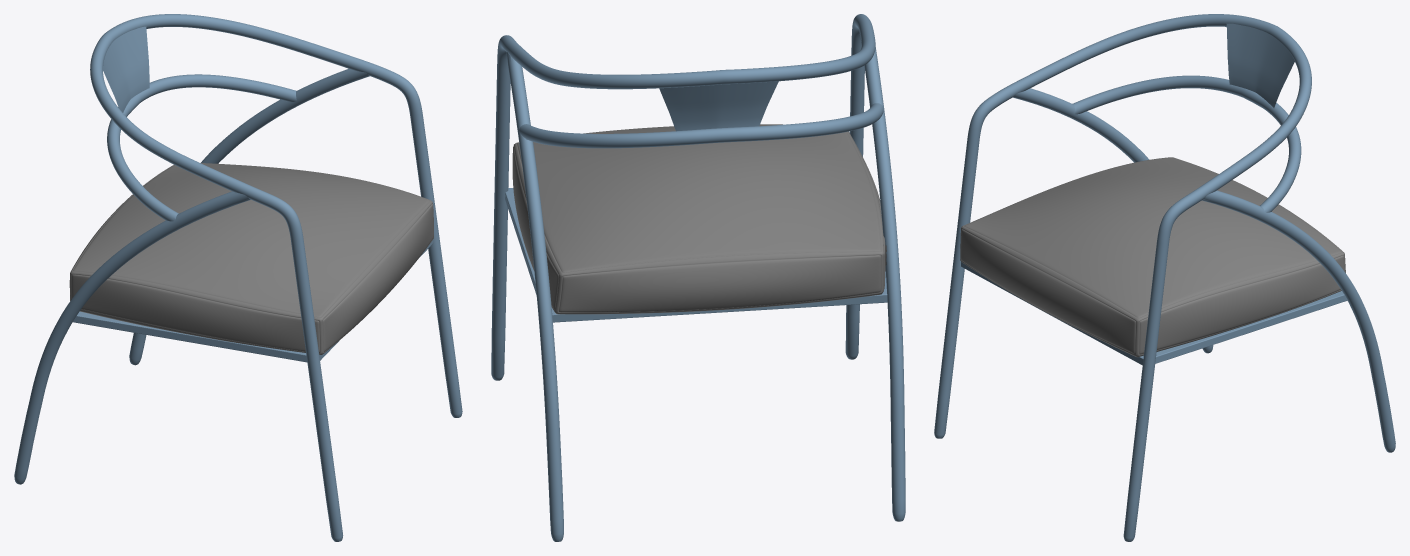
Rendered from silla.FBX.
3 views of the same model, side by side, from view 1: azimuth 30°, elevation 25°; view 2: azimuth 150°, elevation 25°; view 3: azimuth 270°, elevation 25° (orthographic). The views are drawn at different scales.
Visible parts, largest first — view 1: Group001, Chair; view 2: Group001, Chair; view 3: Group001, Chair.
Boxes of the visible parts, x1,y1,x2,y2 form: Group001: [69, 163, 433, 354]; Chair: [14, 14, 462, 541]; Group001: [512, 124, 886, 314]; Chair: [491, 14, 905, 541]; Group001: [960, 157, 1345, 357]; Chair: [934, 14, 1395, 541].
Size of the model in its own units: 1229 by 1143 by 1244.
